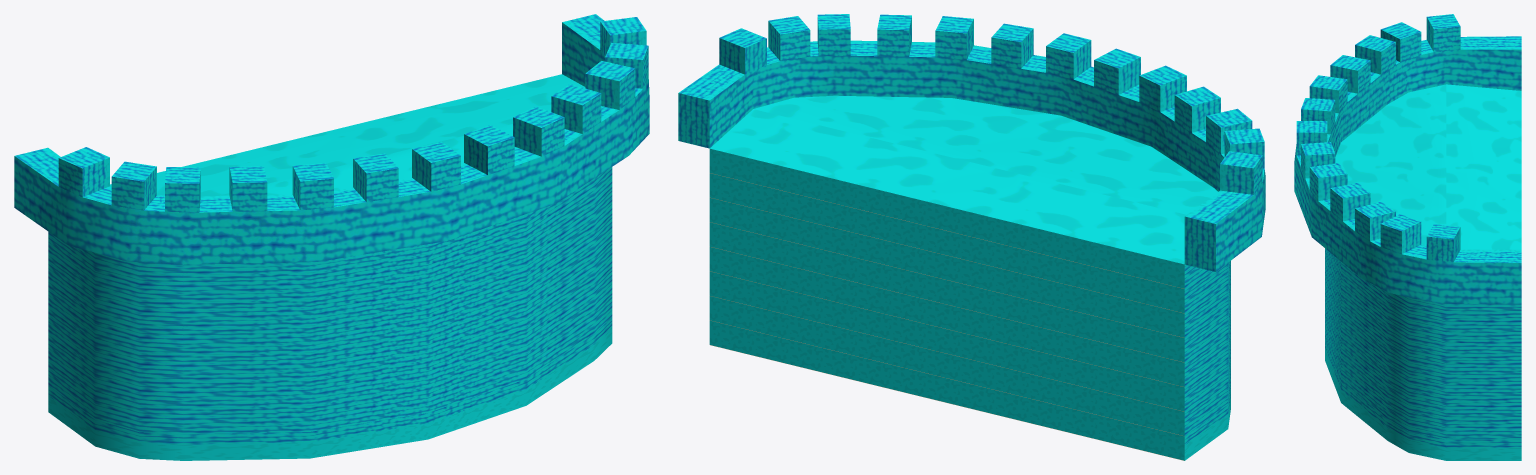
Rendered from SM_Decoration_GreatWall_03.fbx.
The picture shows the model from 3 angles, left to right: view 1: azimuth 30°, elevation 25°; view 2: azimuth 150°, elevation 25°; view 3: azimuth 270°, elevation 25°; orthographic projection. The views are drawn at different scales.
Visible parts, largest first — view 1: SM_Decoration_GreatWall_03; view 2: SM_Decoration_GreatWall_03; view 3: SM_Decoration_GreatWall_03.
Part boxes in pixels (x1,y1,x2,y2): SM_Decoration_GreatWall_03: [14, 14, 649, 460]; SM_Decoration_GreatWall_03: [678, 14, 1265, 460]; SM_Decoration_GreatWall_03: [1294, 14, 1521, 460].
Size of the model in its own units: 196 by 94.22 by 82.93.
Materials: 1 (1 with a texture image).
